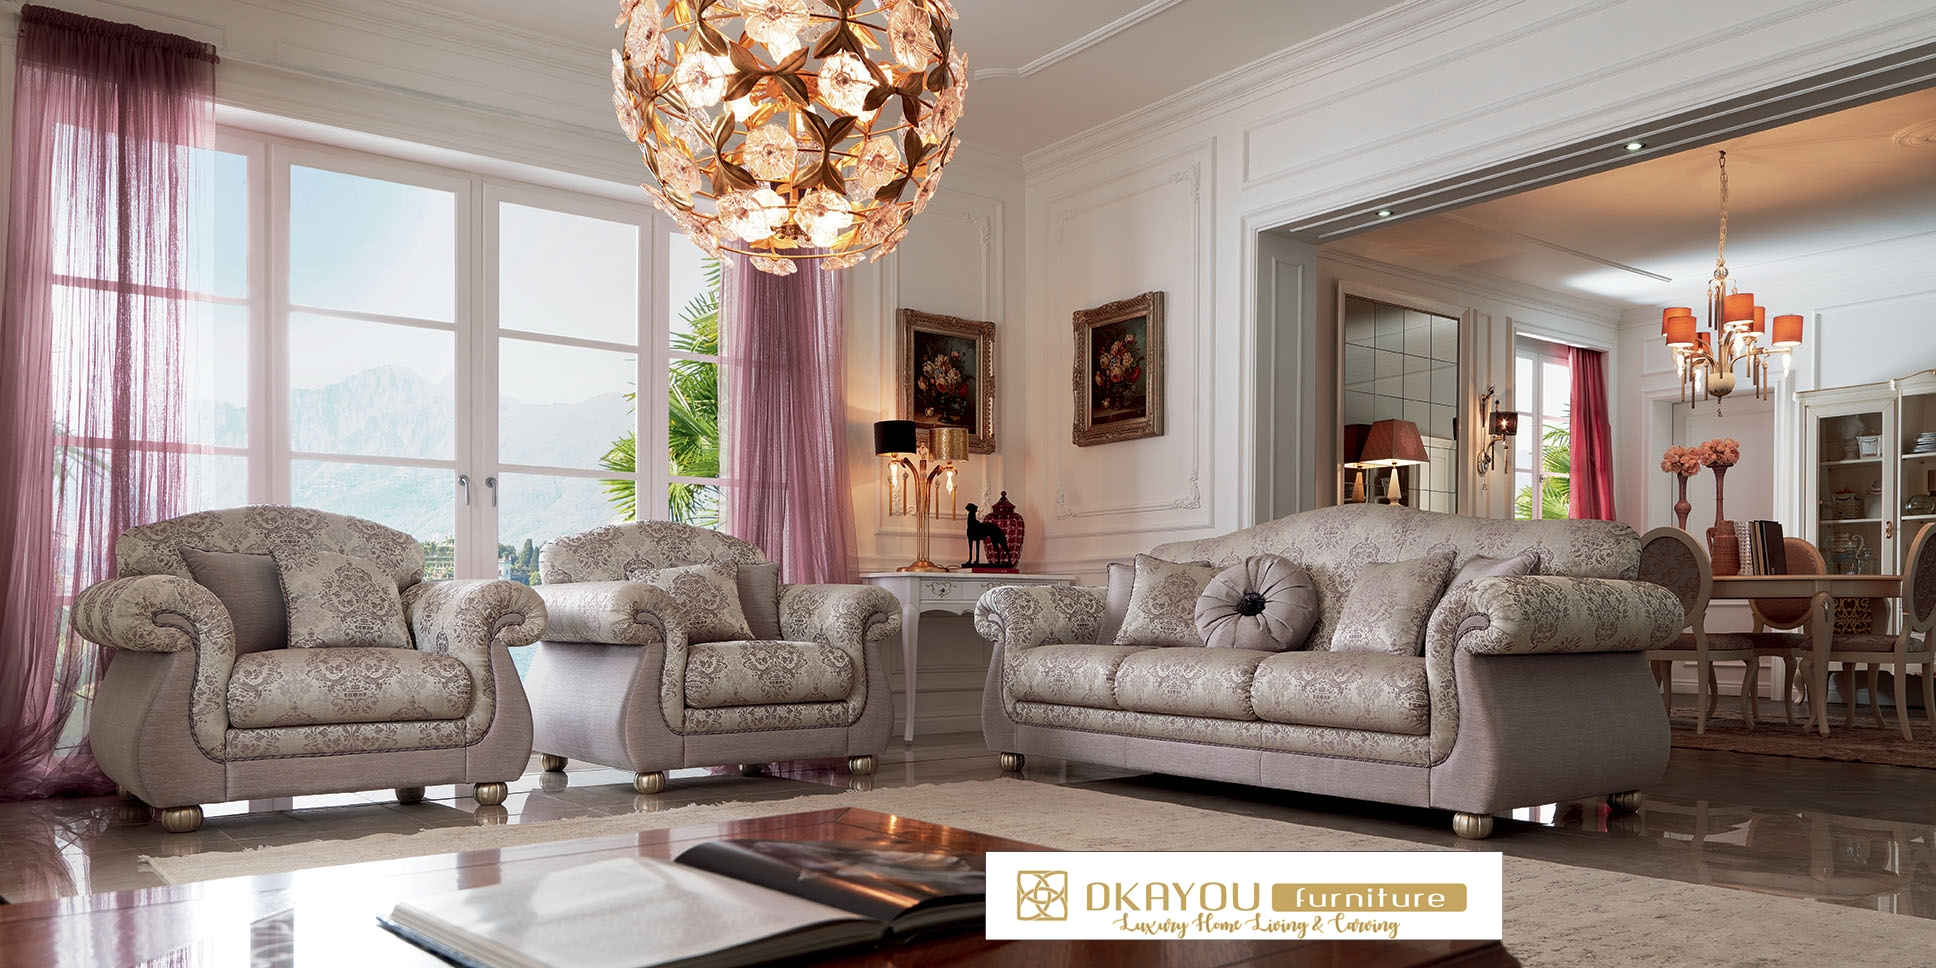bantal: (278, 540, 412, 652), (189, 548, 282, 648), (1340, 554, 1430, 657), (1124, 557, 1216, 653), (645, 562, 749, 643)
buku: (1746, 512, 1794, 577)
kursi: (77, 505, 540, 824), (517, 524, 905, 795)
lampu: (873, 417, 961, 573), (1366, 420, 1424, 507)
lukisan: (1064, 286, 1178, 444), (891, 302, 1000, 458)
sova: (987, 527, 1683, 831)
